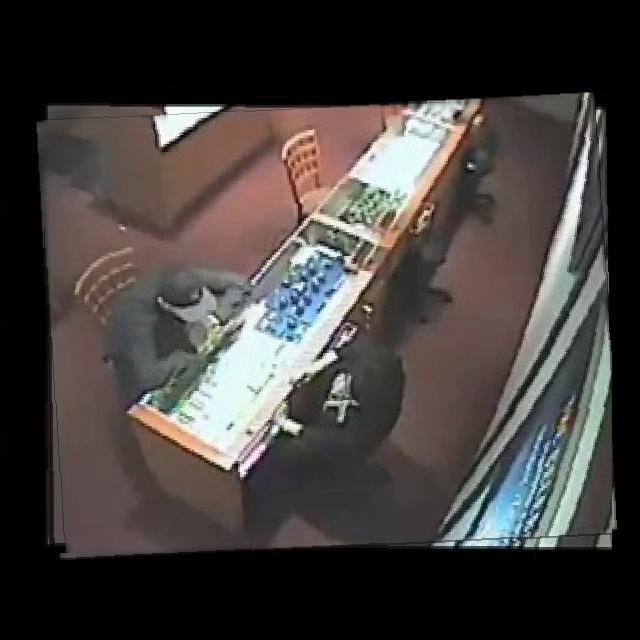Normal: (42, 100, 612, 554)
